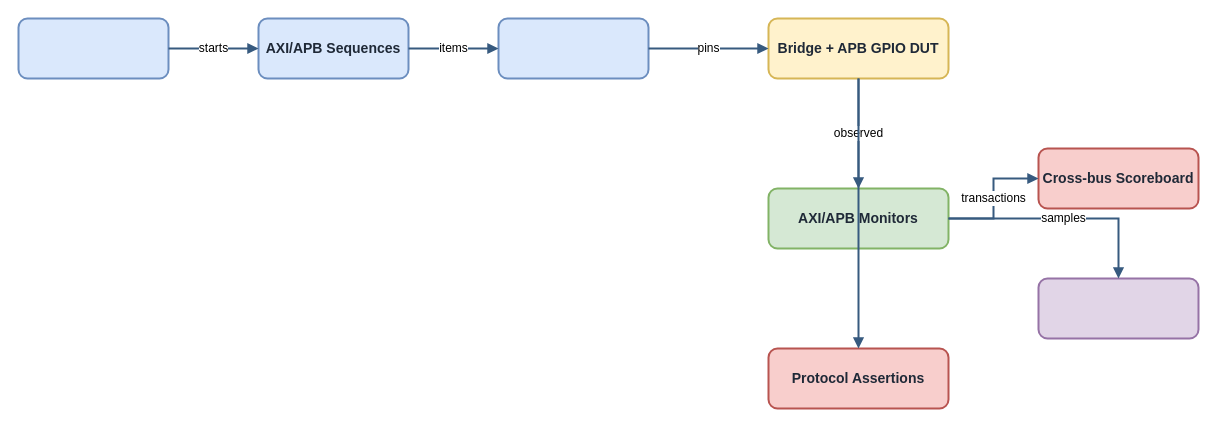
The diagram is 1216 pixels wide and 426 high, and some of its shapes have lost their labels. The shapes that lost their labels are listed below. From the top down, each one's centre as x and y in pixels, then its label:
the point at 93,48: UVM Tests
the point at 573,48: AXI-Lite Driver
the point at 1118,308: Functional Coverage
